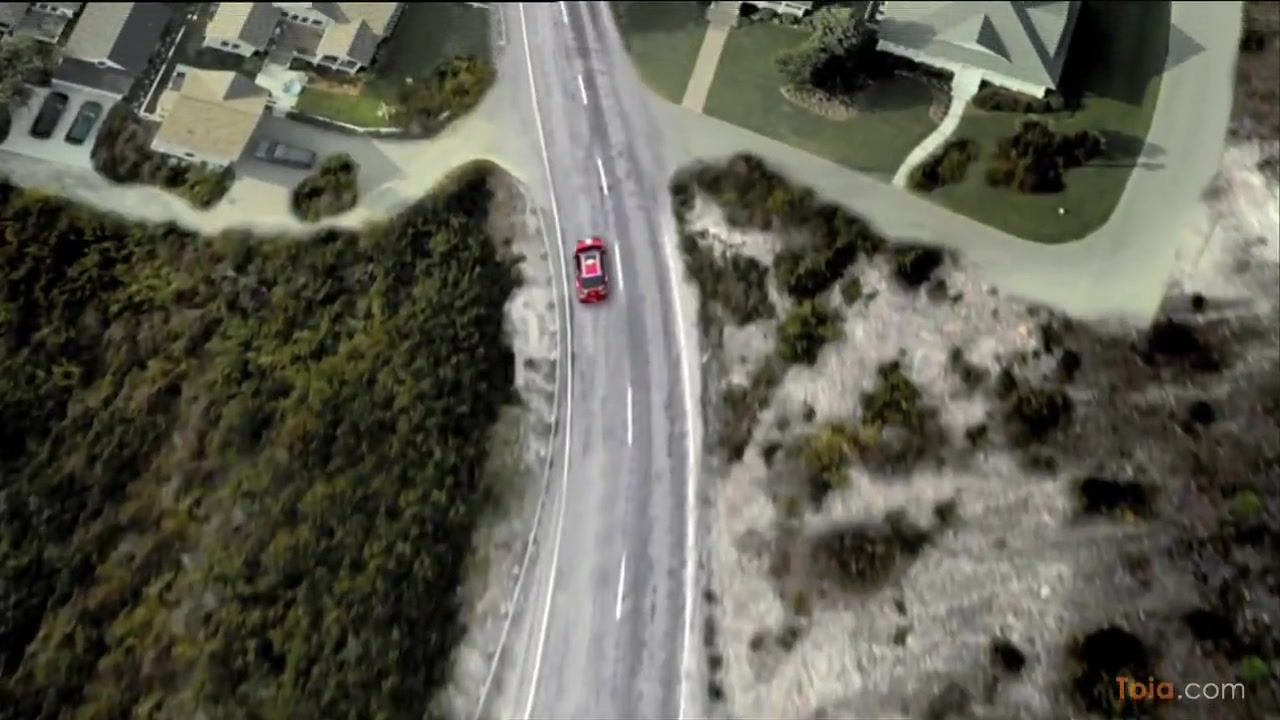car: (571, 236, 617, 312)
